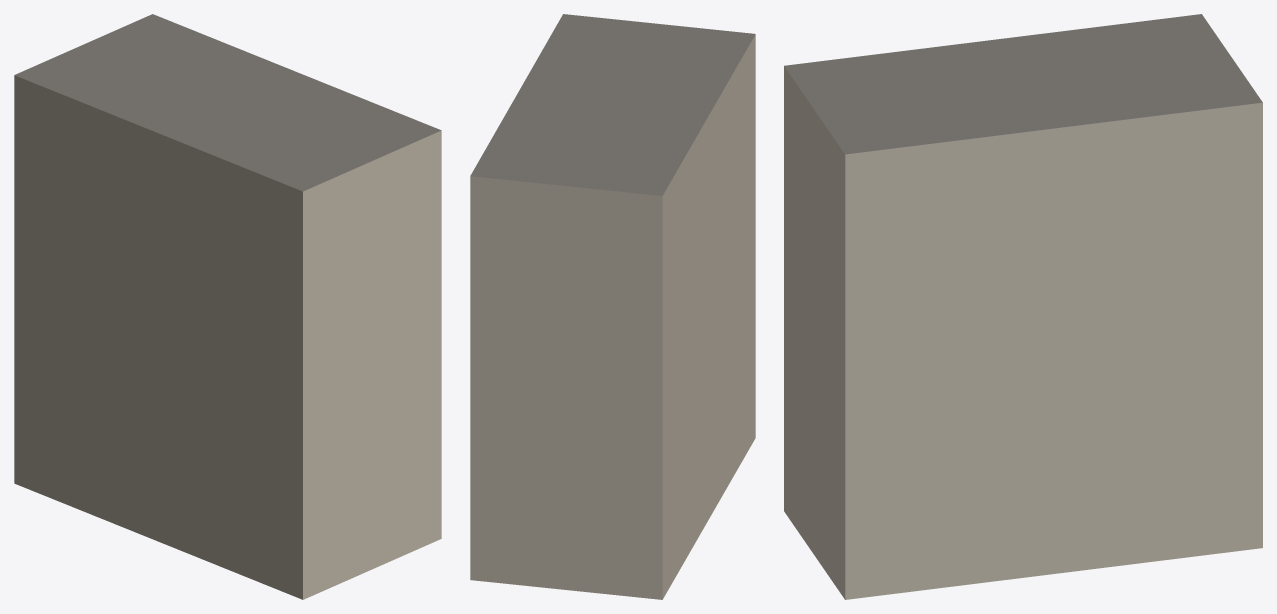
The picture shows the model from 3 angles, left to right: view 1: azimuth 30°, elevation 25°; view 2: azimuth 150°, elevation 25°; view 3: azimuth 270°, elevation 25°; orthographic projection. The views are drawn at different scales.
Parts seen in each view (by area): view 1: HP-w1198533063; view 2: HP-w1198533063; view 3: HP-w1198533063.
Part boxes in pixels (x1,y1,x2,y2): HP-w1198533063: (14,14,441,599); HP-w1198533063: (470,14,755,599); HP-w1198533063: (784,14,1262,599).
Size of the model in its own units: 12.18 by 18 by 17.54.
